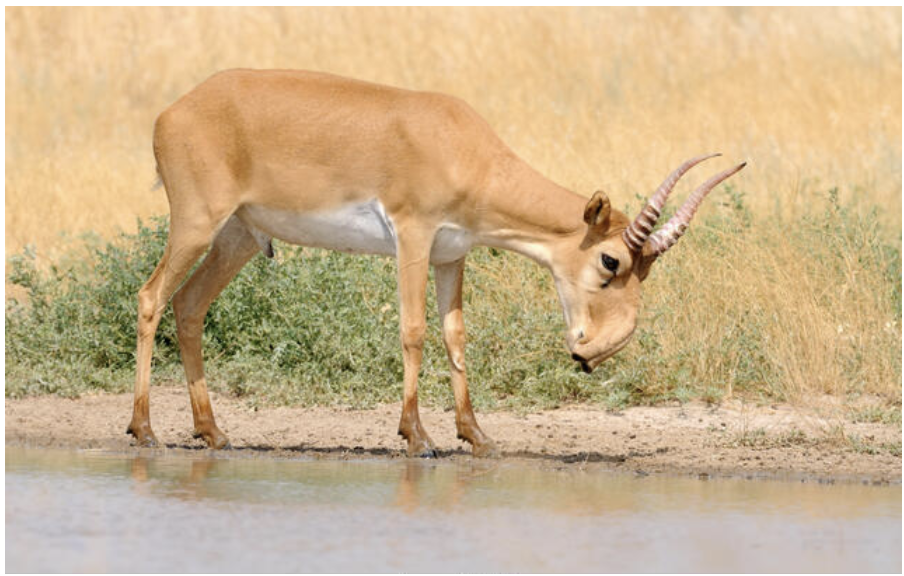saiga: (118, 48, 750, 459)
